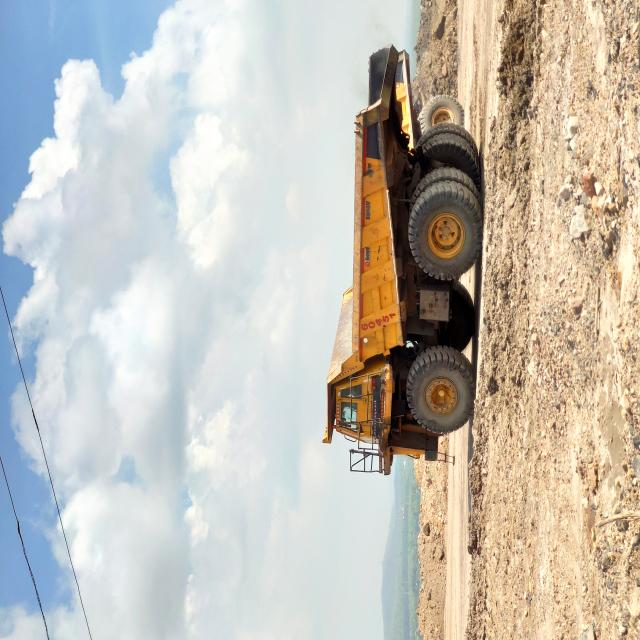dump_truck: (124, 431, 444, 640)
